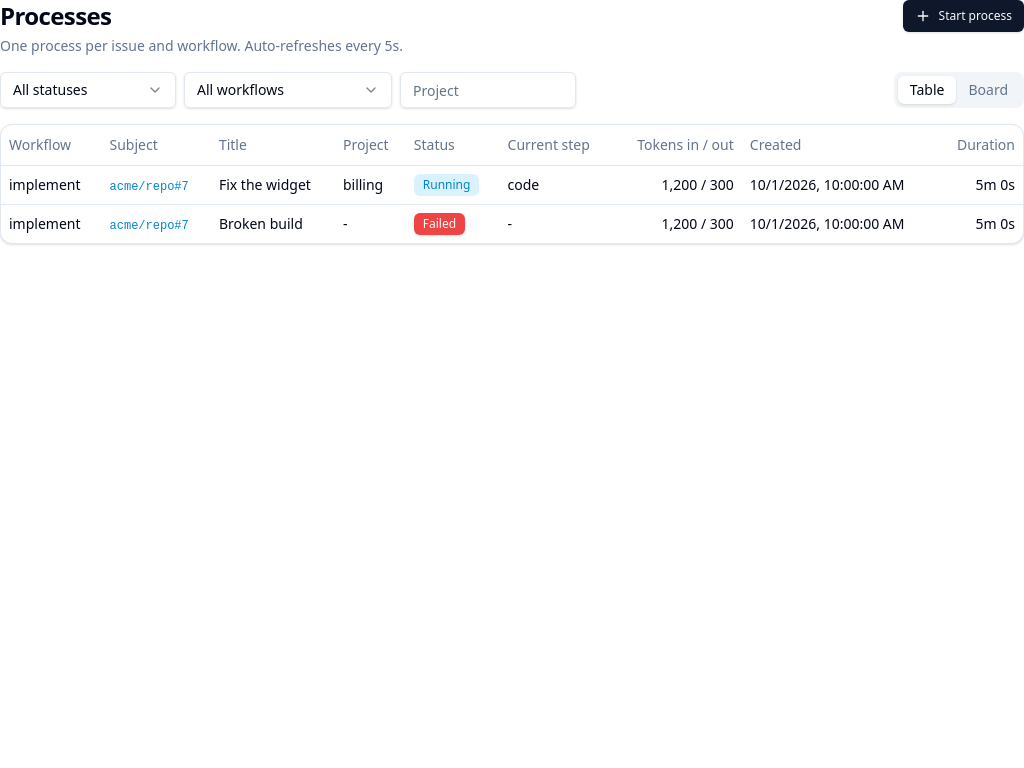
ProcessList › start dialog › shows the server error and stays open
Click the button "Start process" at [963, 16], box 902,0 -> 1023,32
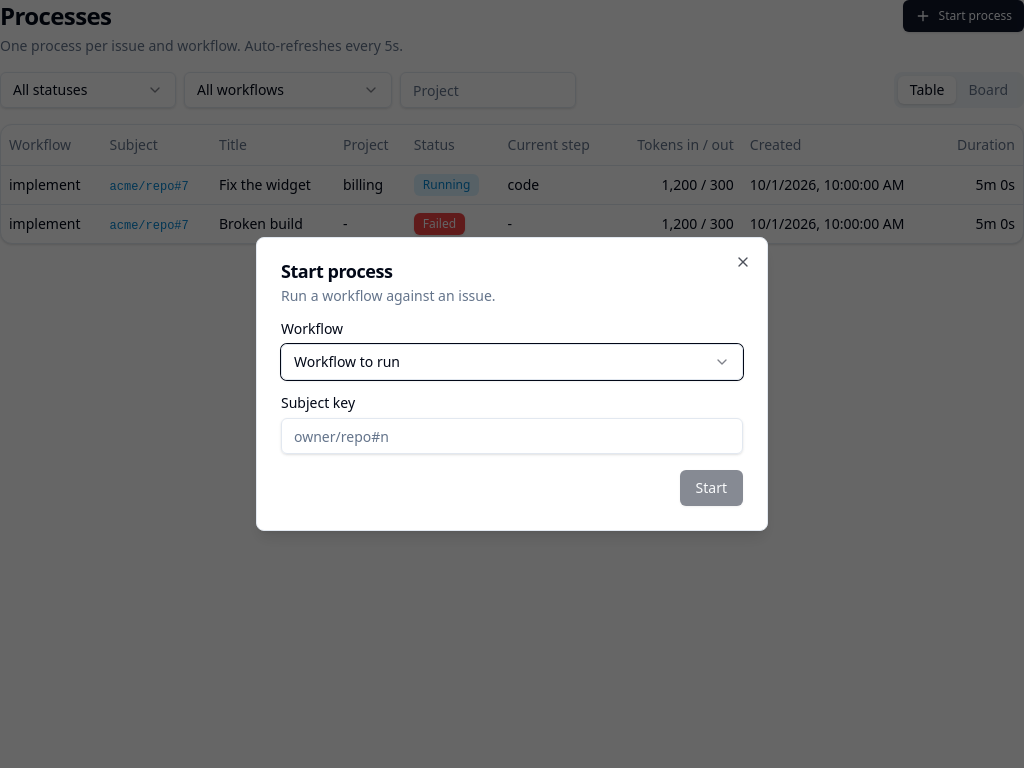
Click the dropdown labelled "Workflow to run" at [347, 362], box 281,344 -> 743,380
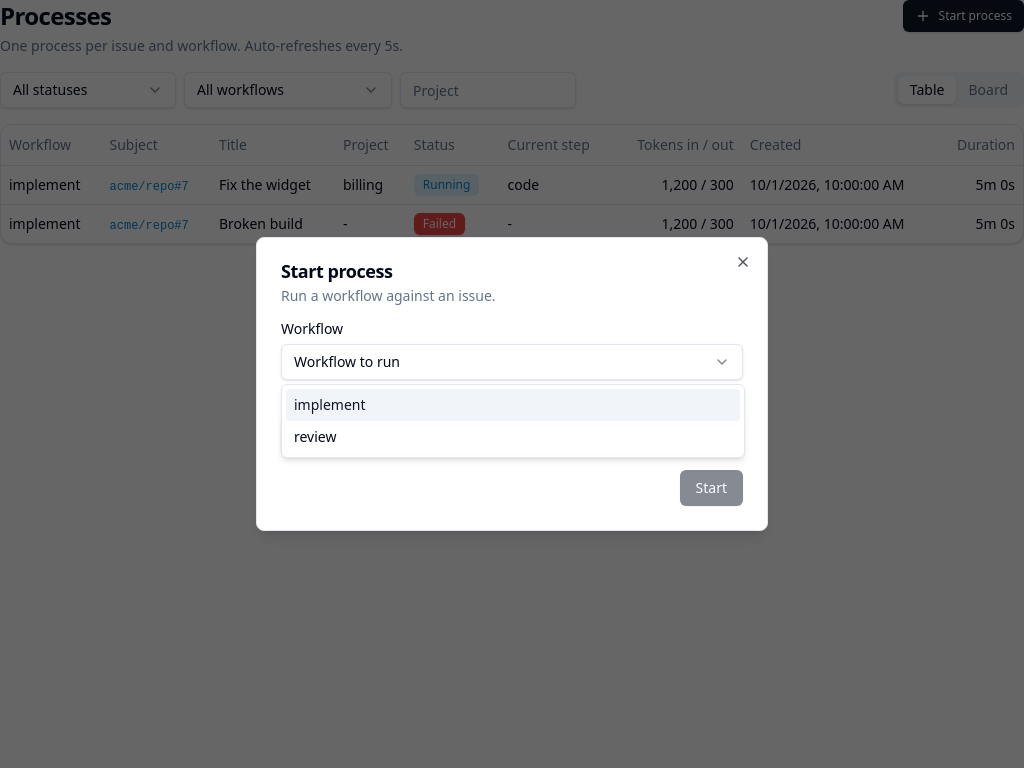
Click the option "implement" at [330, 404], box 286,389 -> 740,421
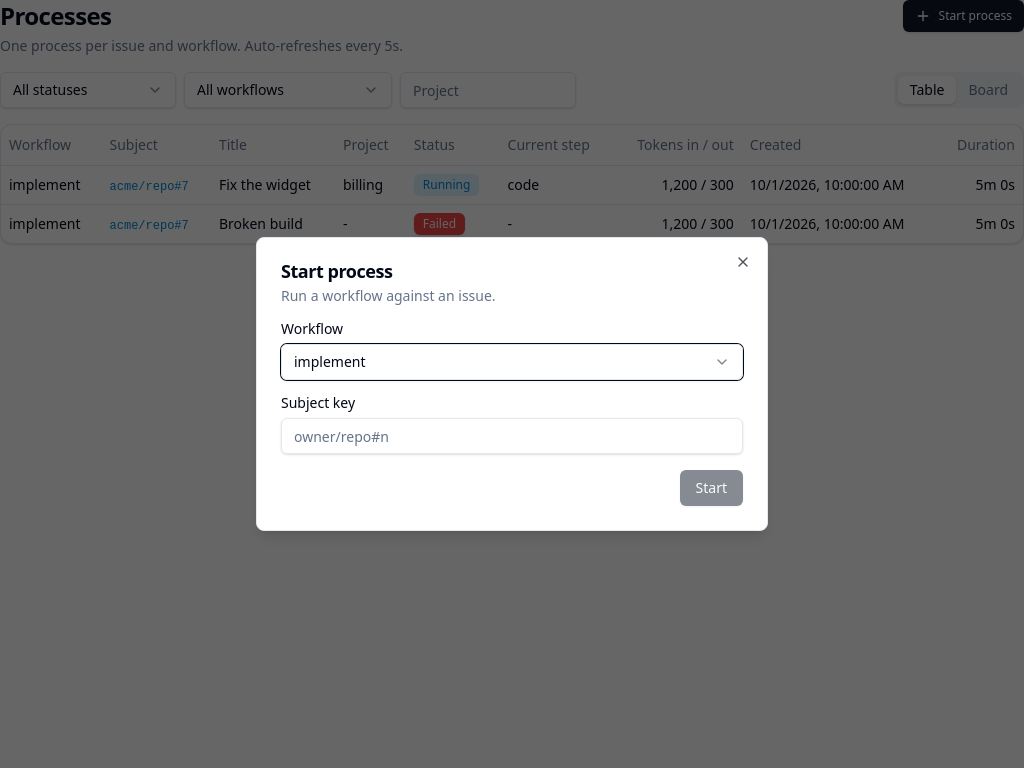
Type "a/b#1" into the field labelled "Subject key" at [512, 436], box 281,418 -> 743,454
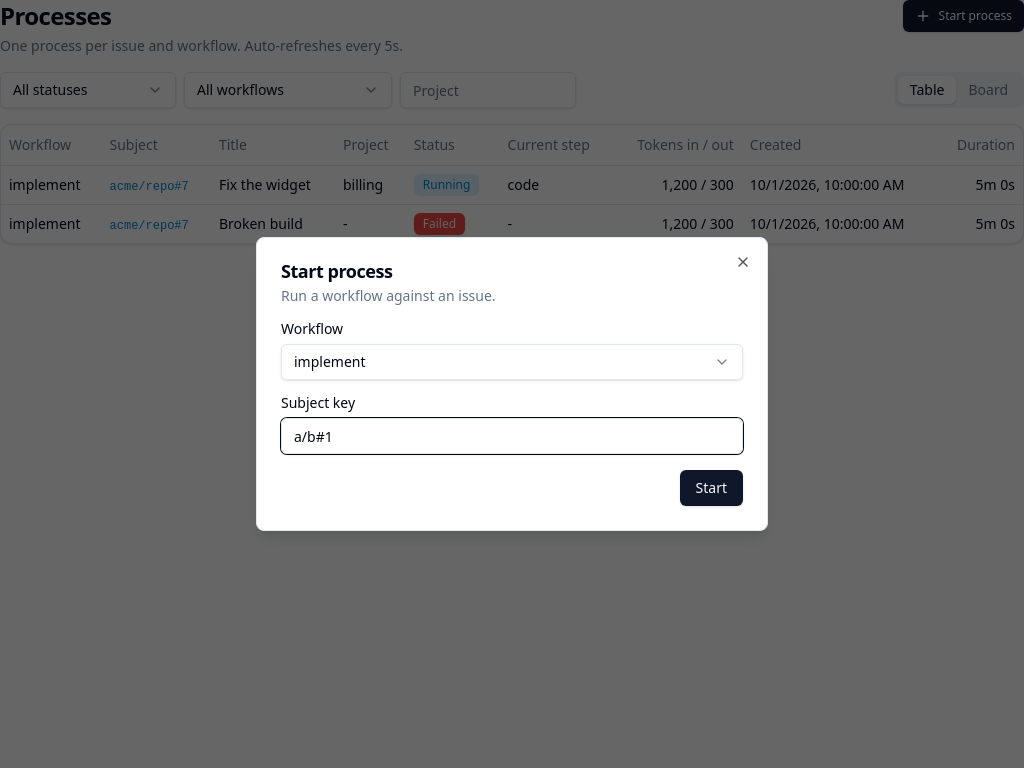
Click the button "Start" at [711, 488], box 680,470 -> 743,506
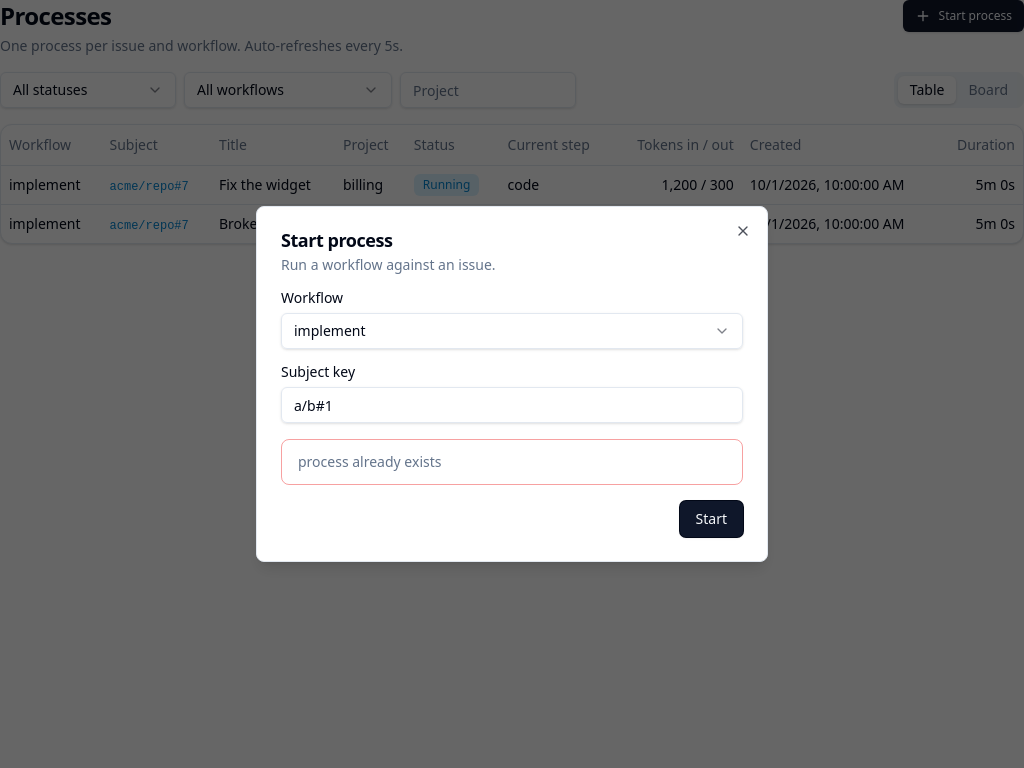
Result: the message reads "process already exists" at 298,452 -> 442,471
